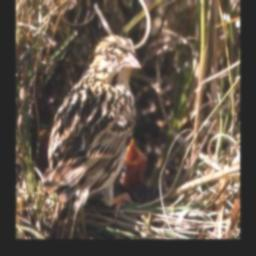Sparrow: (40, 34, 144, 238)
